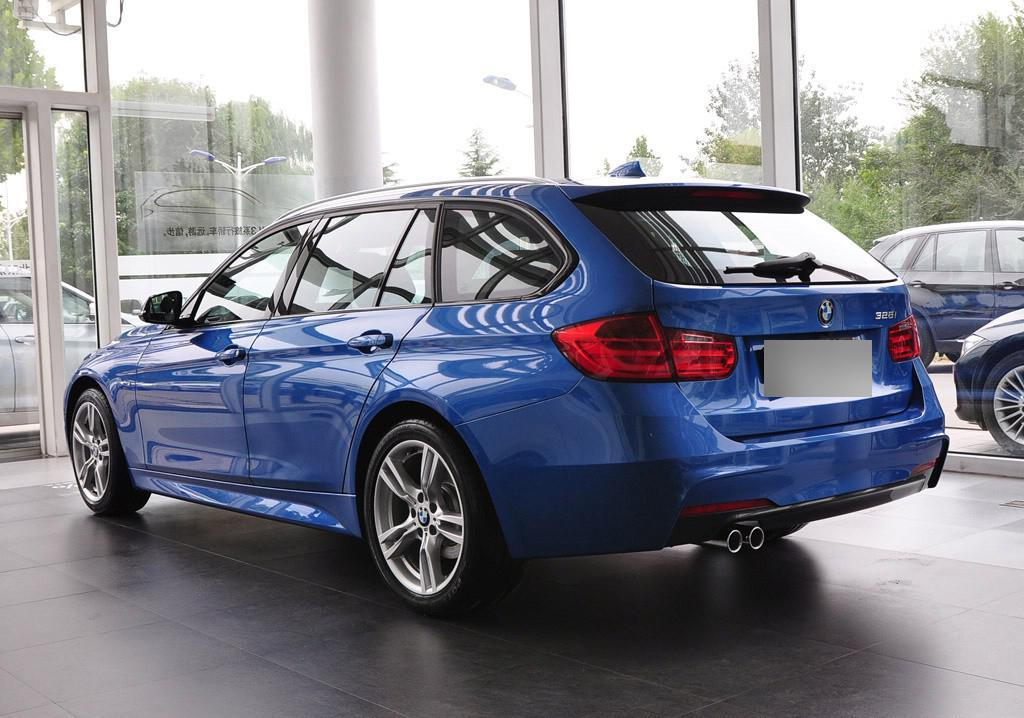Wagon: (62, 160, 951, 621)
